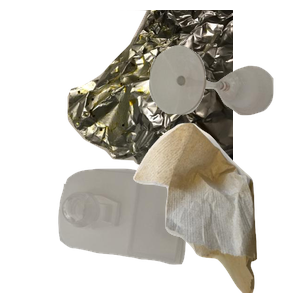glass: (147, 43, 300, 151)
metal: (60, 10, 300, 190)
plastic: (56, 166, 241, 300)
trash: (131, 120, 300, 300)
